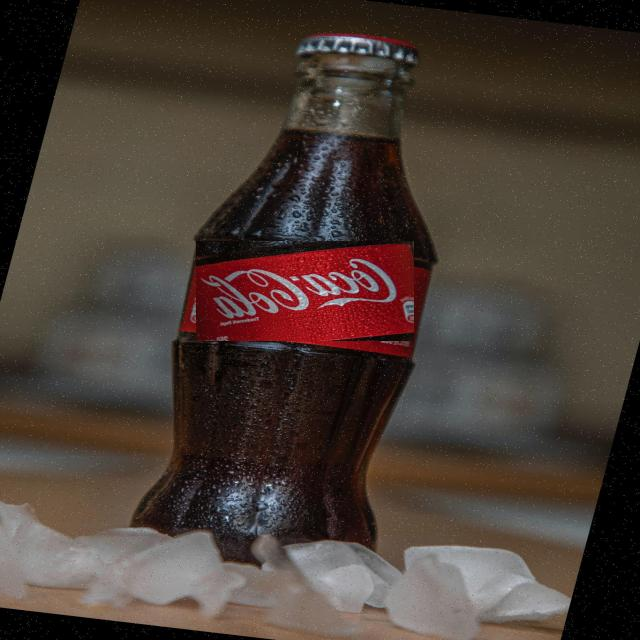coca-cola: (196, 241, 414, 341)
